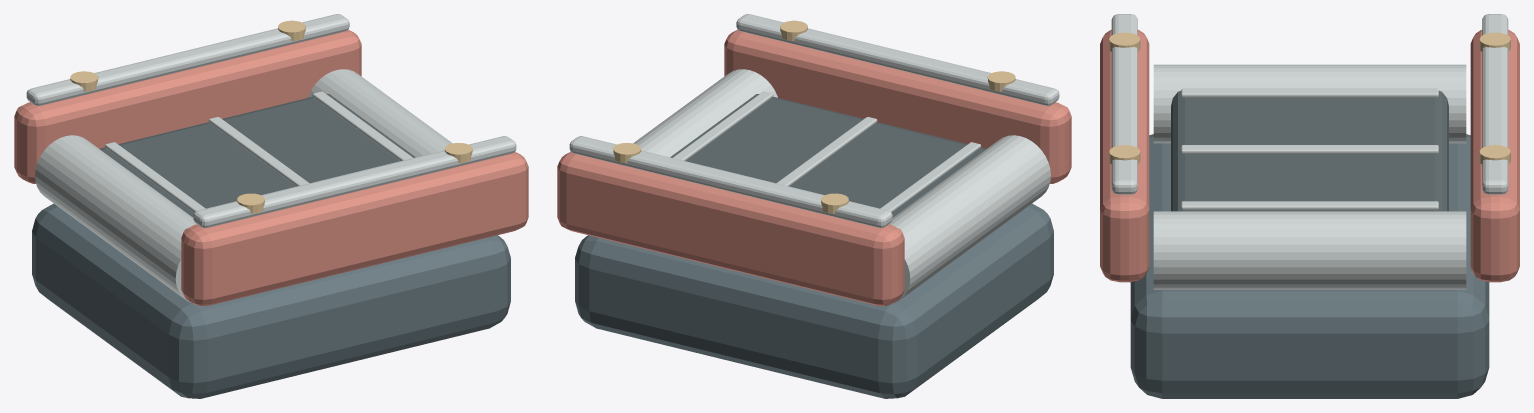
Rendered from conveyor_module.glb.
3 renders of one model, left to right at view 1: azimuth 30°, elevation 25°; view 2: azimuth 150°, elevation 25°; view 3: azimuth 270°, elevation 25°, orthographic. The views are drawn at different scales.
Parts seen in each view (by area): view 1: ASSET_CONVEYOR_Deck, ASSET_CONVEYOR_Rail_-1, ASSET_CONVEYOR_Rail_1, ASSET_CONVEYOR_Belt, ASSET_CONVEYOR_Roller_-1, ASSET_CONVEYOR_RailCap_-1, ASSET_CONVEYOR_RailCap_1, ASSET_CONVEYOR_Roller_1, ASSET_CONVEYOR_Tread_-0.23, ASSET_CONVEYOR_Tread_0.23, ASSET_CONVEYOR_Tread_0.0; view 2: ASSET_CONVEYOR_Deck, ASSET_CONVEYOR_Rail_1, ASSET_CONVEYOR_Rail_-1, ASSET_CONVEYOR_Belt, ASSET_CONVEYOR_Roller_-1, ASSET_CONVEYOR_RailCap_1, ASSET_CONVEYOR_RailCap_-1, ASSET_CONVEYOR_Roller_1, ASSET_CONVEYOR_Tread_-0.23, ASSET_CONVEYOR_Tread_0.23, ASSET_CONVEYOR_Tread_0.0; view 3: ASSET_CONVEYOR_Deck, ASSET_CONVEYOR_Belt, ASSET_CONVEYOR_Roller_1, ASSET_CONVEYOR_Roller_-1, ASSET_CONVEYOR_Rail_1, ASSET_CONVEYOR_Rail_-1, ASSET_CONVEYOR_RailCap_1, ASSET_CONVEYOR_RailCap_-1, ASSET_CONVEYOR_Tread_-0.23, ASSET_CONVEYOR_Tread_0.23, ASSET_CONVEYOR_Tread_0.0, ASSET_CONVEYOR_Bolt_0.23_1 (+3 smaller).
Boxes of the visible parts, x1=… form: ASSET_CONVEYOR_Deck: x1=32, y1=203, x2=510, y2=398; ASSET_CONVEYOR_Rail_-1: x1=181, y1=152, x2=528, y2=305; ASSET_CONVEYOR_Rail_1: x1=14, y1=29, x2=361, y2=183; ASSET_CONVEYOR_Belt: x1=99, y1=94, x2=415, y2=217; ASSET_CONVEYOR_Roller_-1: x1=35, y1=135, x2=196, y2=302; ASSET_CONVEYOR_RailCap_-1: x1=193, y1=136, x2=516, y2=227; ASSET_CONVEYOR_RailCap_1: x1=26, y1=14, x2=349, y2=105; ASSET_CONVEYOR_Roller_1: x1=308, y1=69, x2=452, y2=157; ASSET_CONVEYOR_Tread_-0.23: x1=104, y1=142, x2=205, y2=212; ASSET_CONVEYOR_Tread_0.23: x1=312, y1=91, x2=412, y2=160; ASSET_CONVEYOR_Tread_0.0: x1=208, y1=117, x2=309, y2=186; ASSET_CONVEYOR_Deck: x1=575, y1=203, x2=1053, y2=398; ASSET_CONVEYOR_Rail_1: x1=557, y1=152, x2=904, y2=305; ASSET_CONVEYOR_Rail_-1: x1=724, y1=29, x2=1071, y2=183; ASSET_CONVEYOR_Belt: x1=670, y1=94, x2=986, y2=217; ASSET_CONVEYOR_Roller_-1: x1=889, y1=135, x2=1050, y2=302; ASSET_CONVEYOR_RailCap_1: x1=569, y1=136, x2=892, y2=227; ASSET_CONVEYOR_RailCap_-1: x1=736, y1=14, x2=1059, y2=105; ASSET_CONVEYOR_Roller_1: x1=633, y1=69, x2=777, y2=157; ASSET_CONVEYOR_Tread_-0.23: x1=880, y1=142, x2=981, y2=212; ASSET_CONVEYOR_Tread_0.23: x1=673, y1=91, x2=773, y2=160; ASSET_CONVEYOR_Tread_0.0: x1=776, y1=117, x2=877, y2=186; ASSET_CONVEYOR_Deck: x1=1130, y1=134, x2=1489, y2=398; ASSET_CONVEYOR_Belt: x1=1171, y1=91, x2=1448, y2=211; ASSET_CONVEYOR_Roller_1: x1=1153, y1=211, x2=1466, y2=289; ASSET_CONVEYOR_Roller_-1: x1=1153, y1=64, x2=1466, y2=143; ASSET_CONVEYOR_Rail_1: x1=1470, y1=29, x2=1519, y2=282; ASSET_CONVEYOR_Rail_-1: x1=1100, y1=29, x2=1149, y2=282; ASSET_CONVEYOR_RailCap_1: x1=1482, y1=14, x2=1508, y2=194; ASSET_CONVEYOR_RailCap_-1: x1=1111, y1=14, x2=1137, y2=194; ASSET_CONVEYOR_Tread_-0.23: x1=1181, y1=88, x2=1438, y2=97; ASSET_CONVEYOR_Tread_0.23: x1=1181, y1=201, x2=1438, y2=210; ASSET_CONVEYOR_Tread_0.0: x1=1181, y1=145, x2=1438, y2=153; ASSET_CONVEYOR_Bolt_0.23_1: x1=1479, y1=145, x2=1510, y2=164.
Size of the model in its own units: 0.75 by 0.424 by 0.725.
